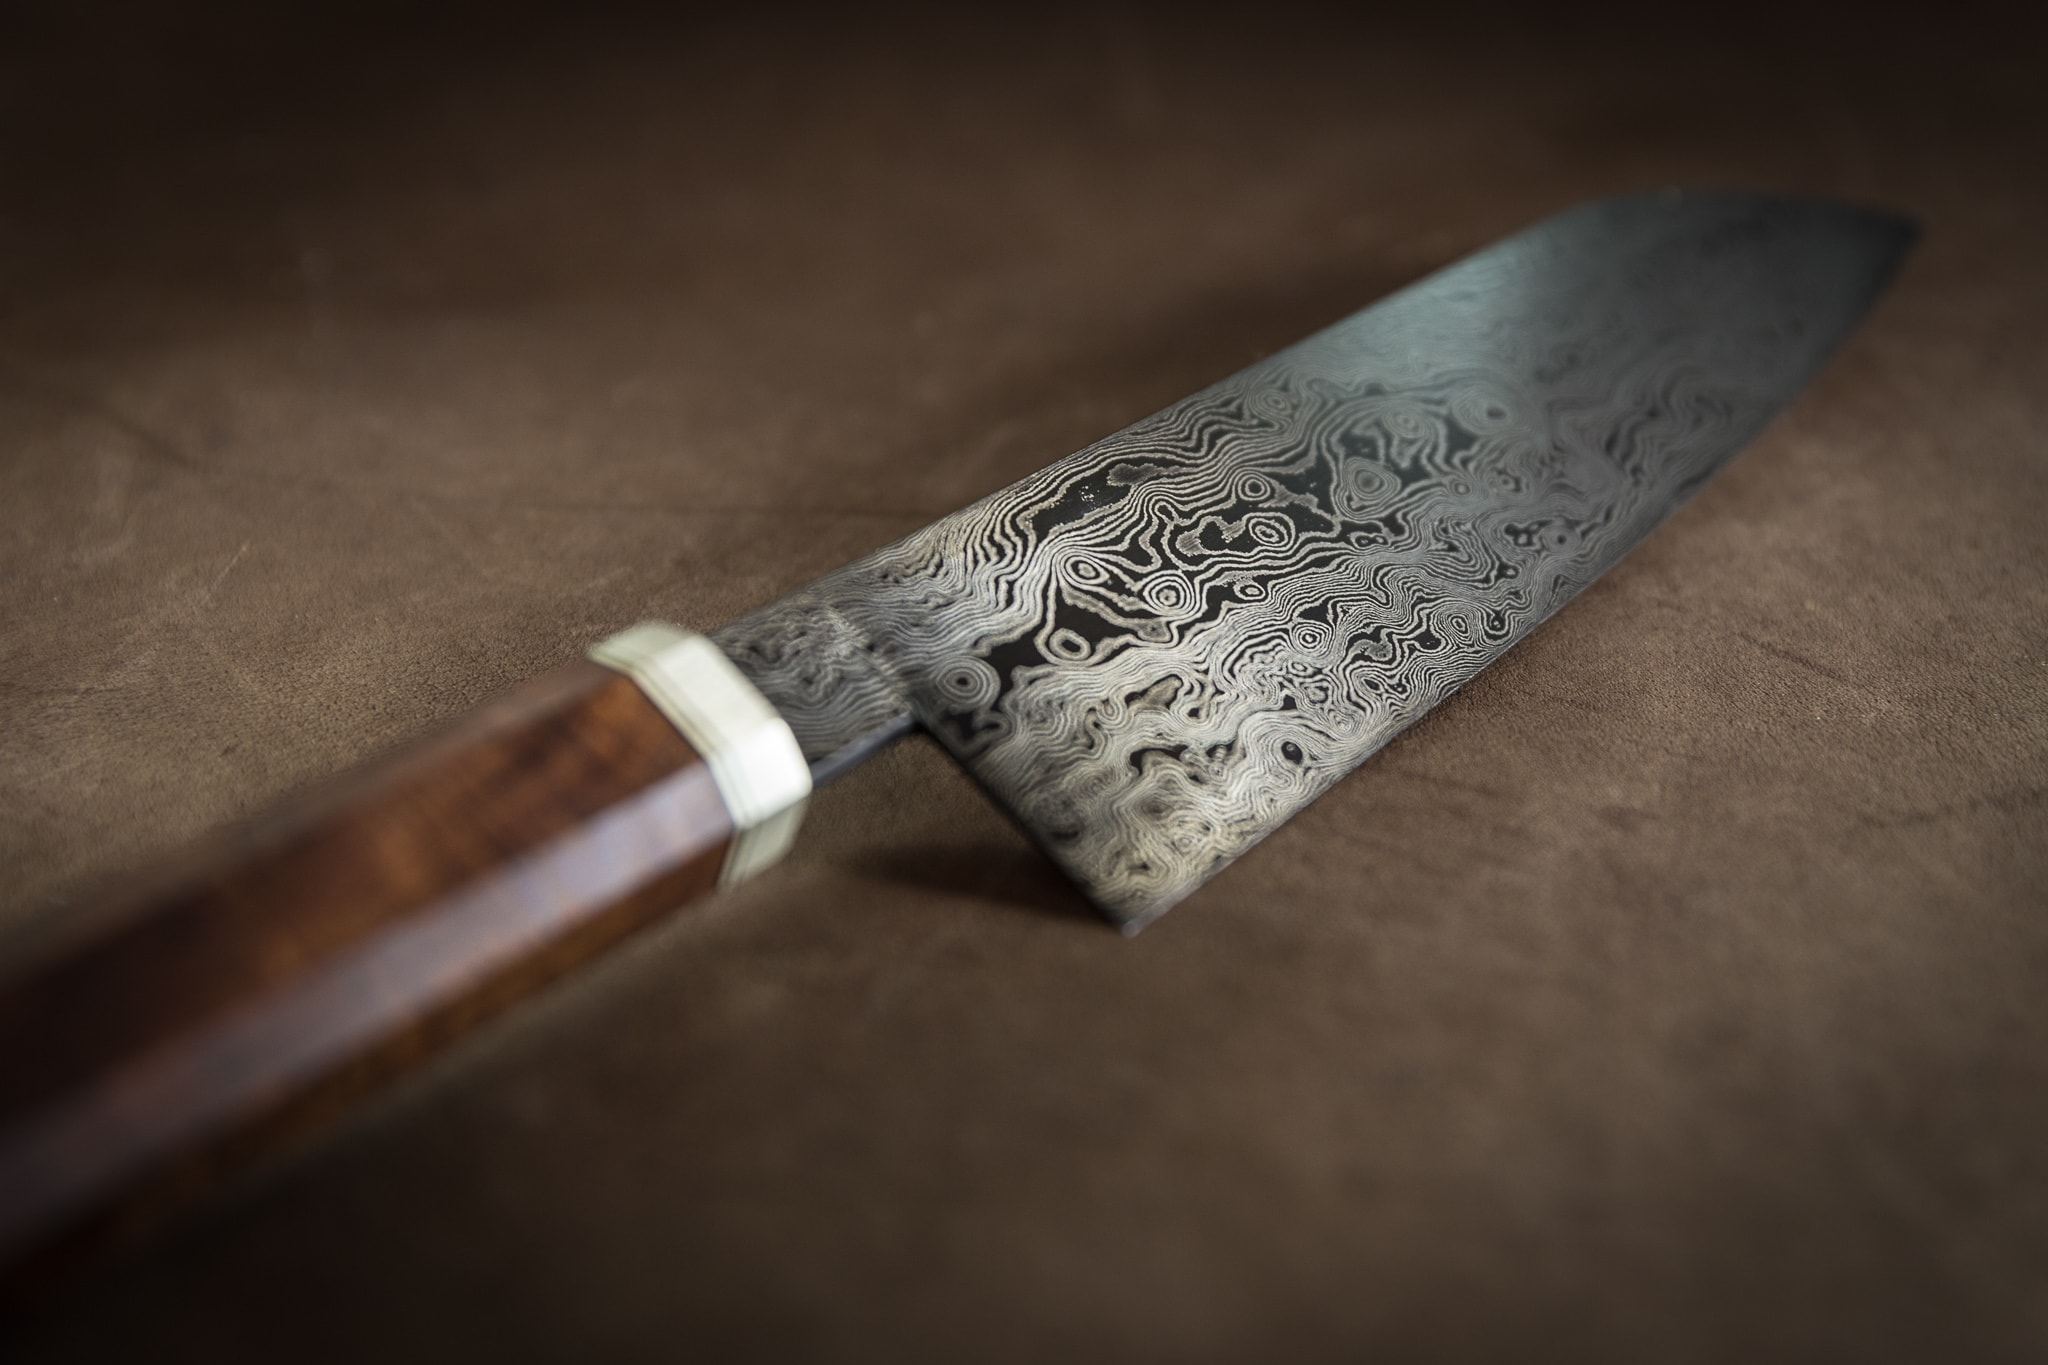knife: (15, 192, 1925, 1295)
